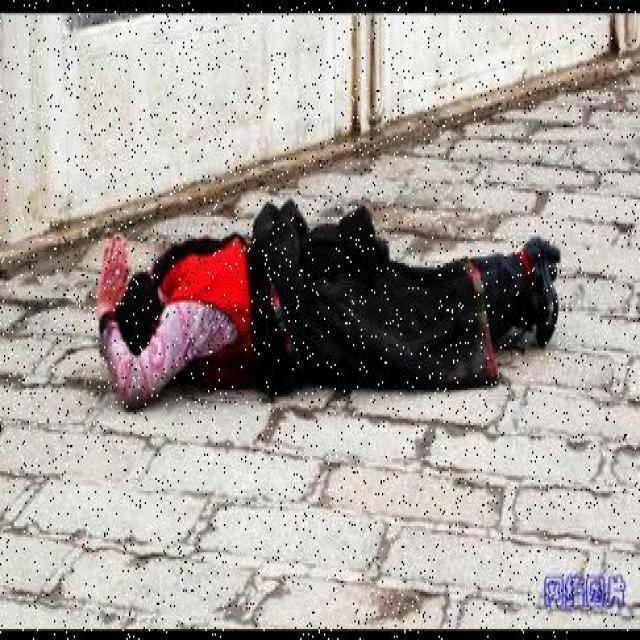fall: (90, 206, 558, 406)
